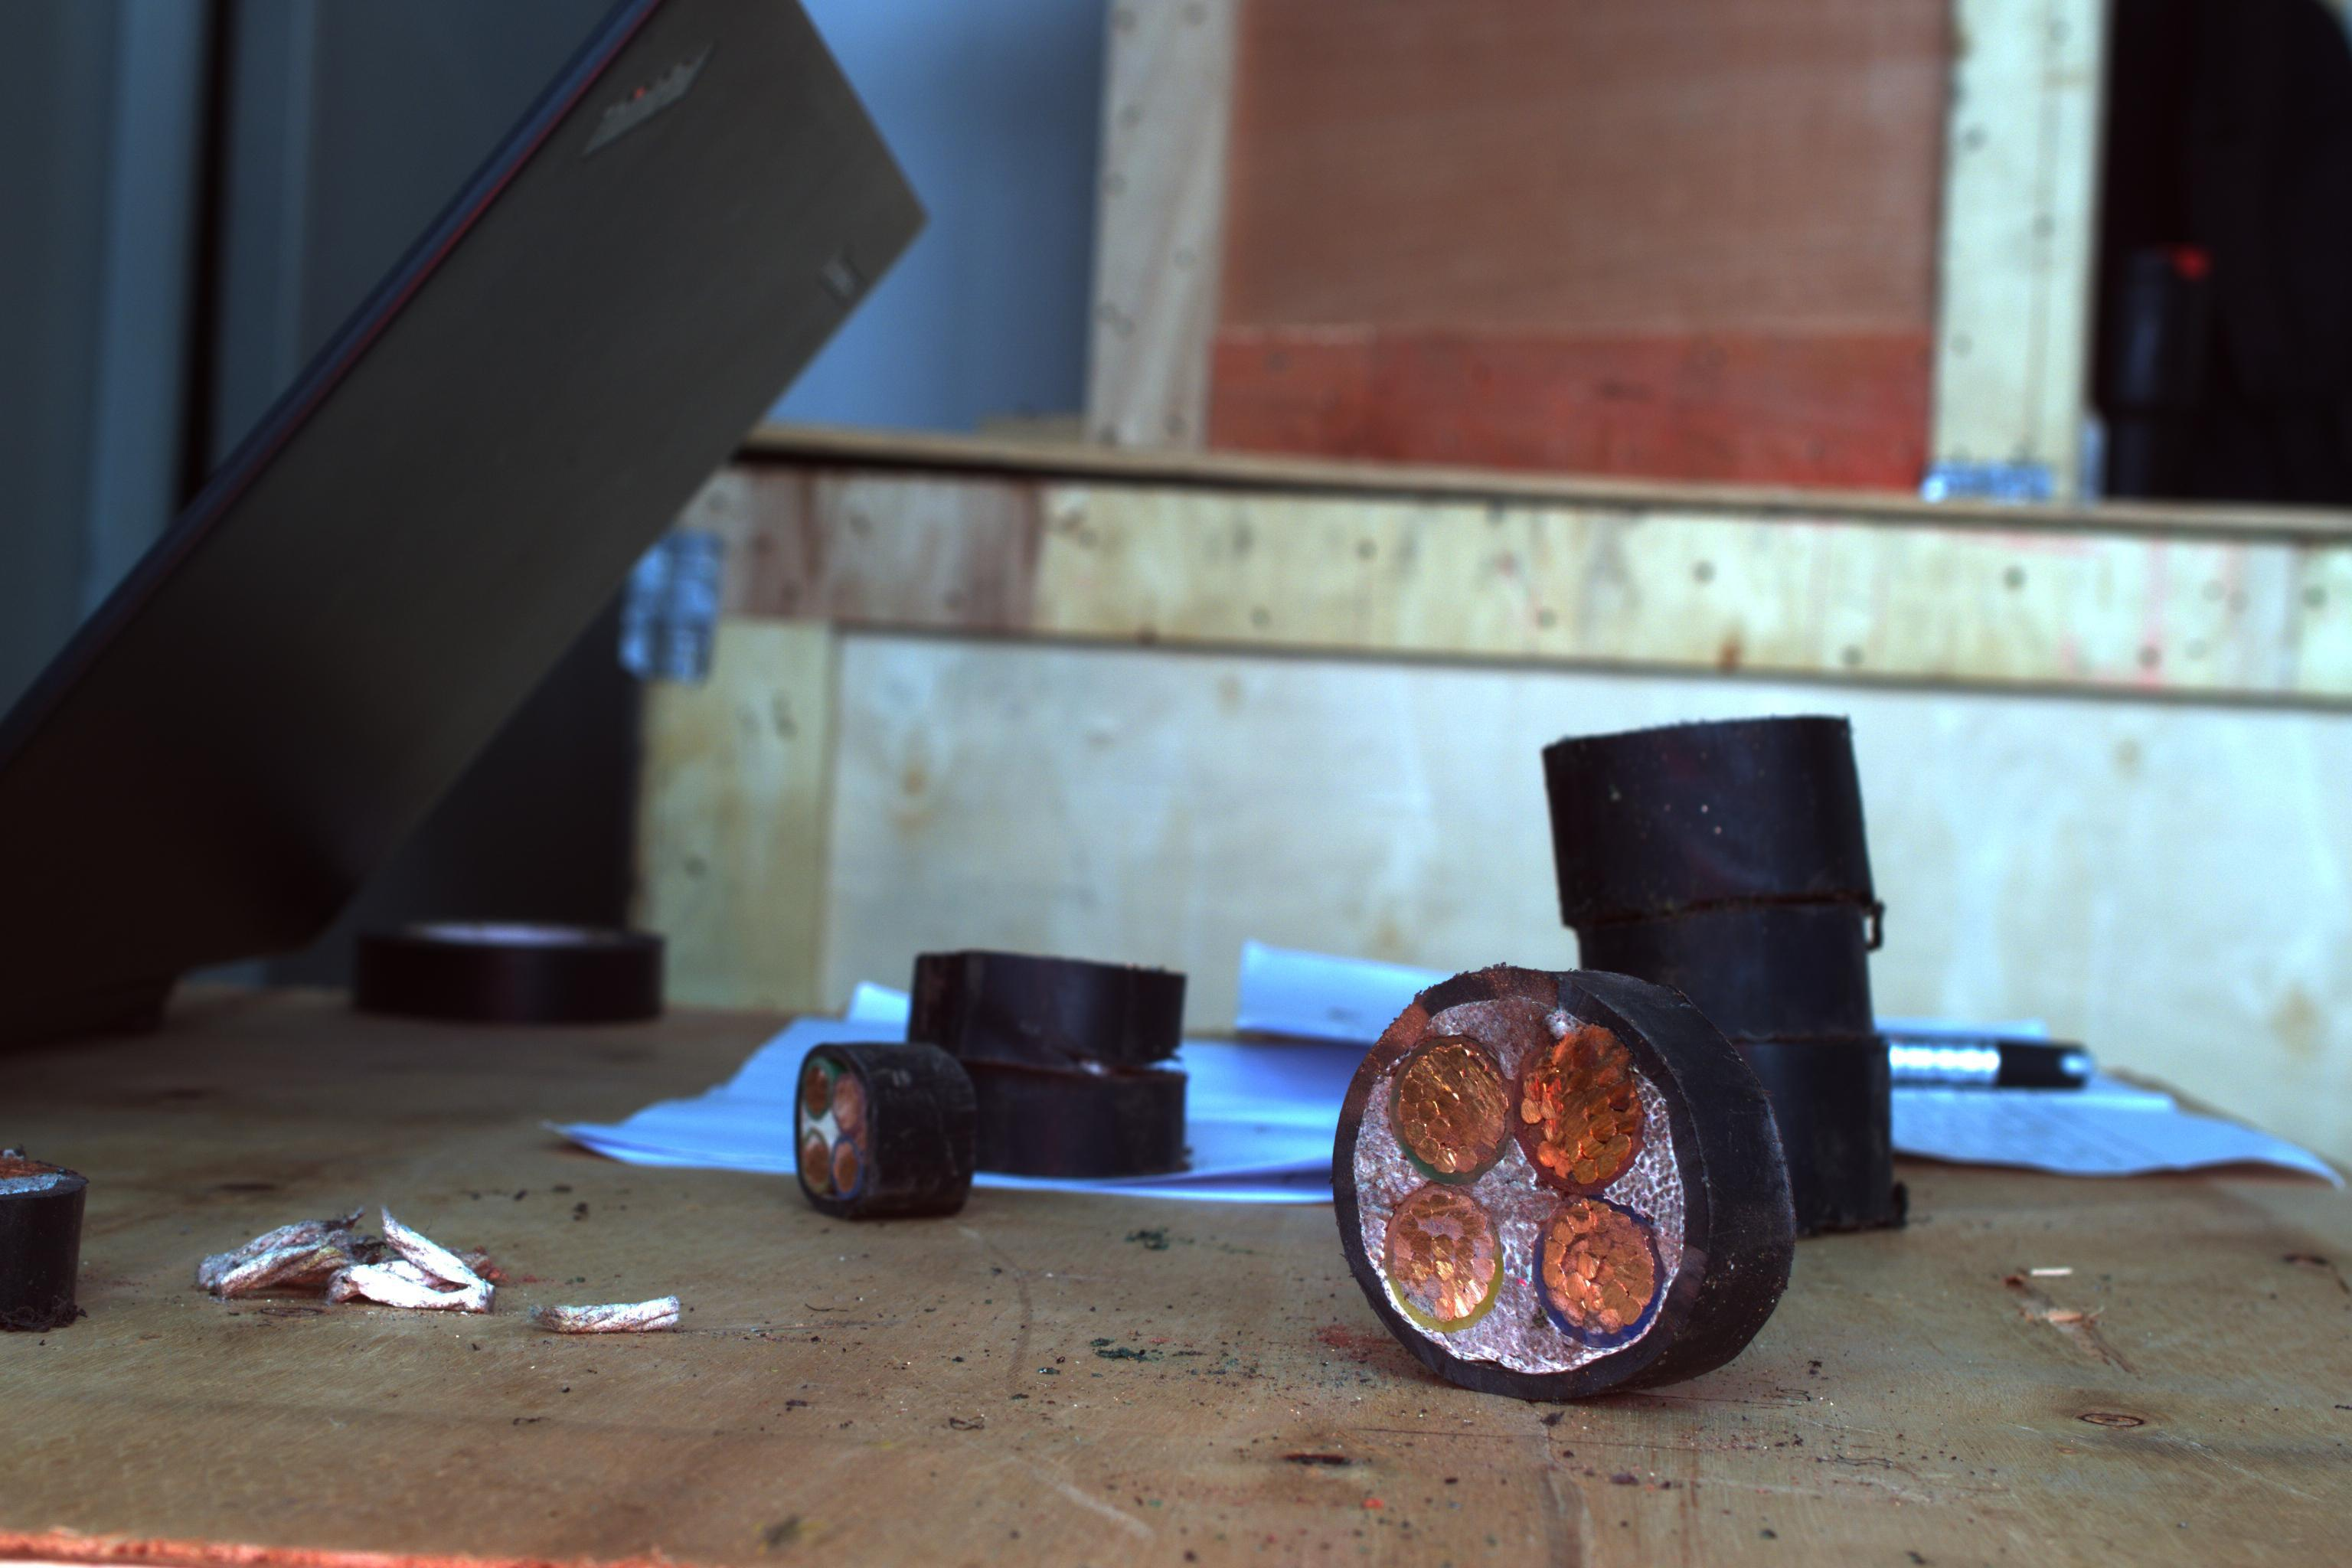YJV_0.6_1kV_4x120: (1312, 971, 1717, 1382)
